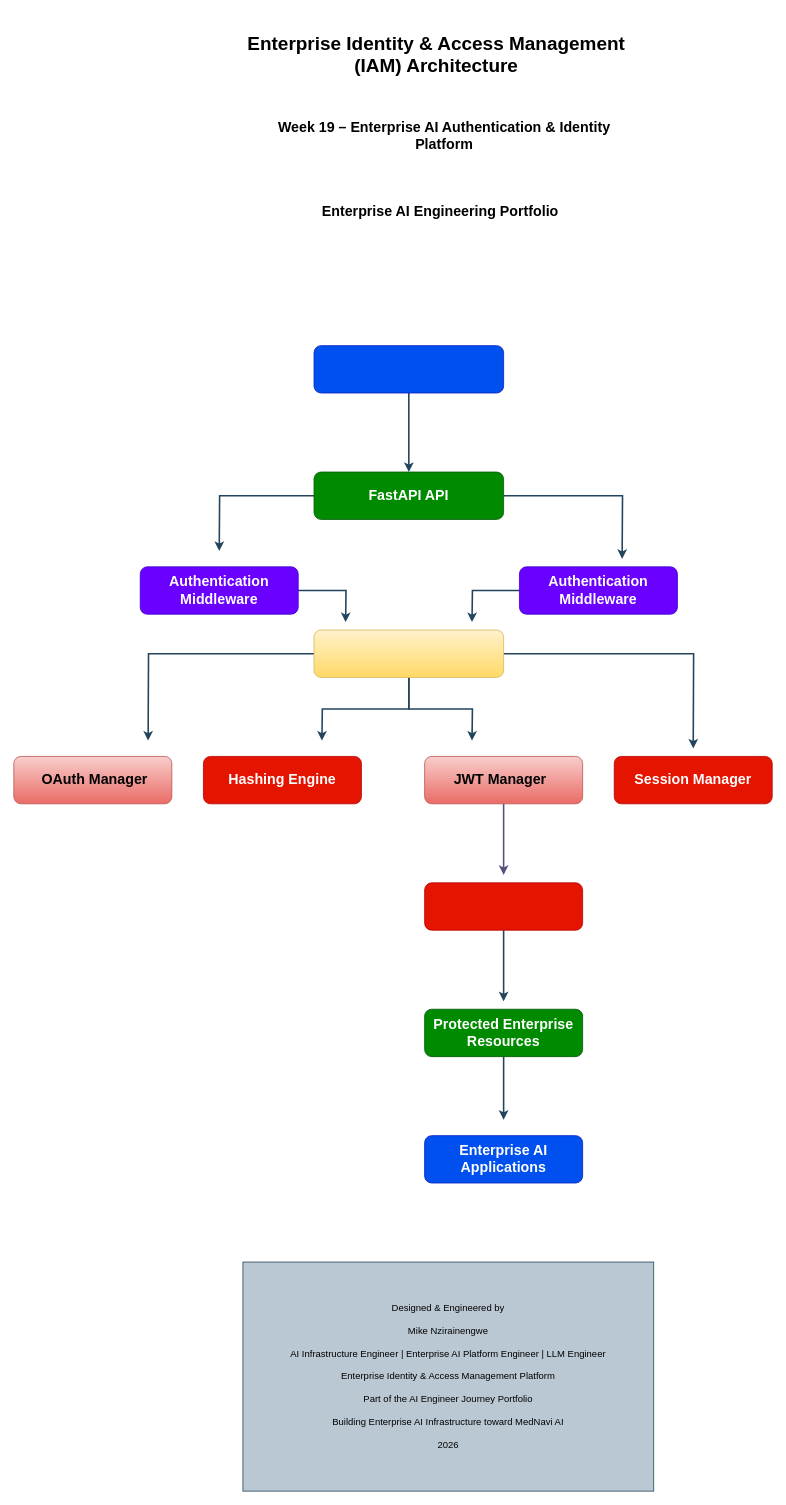
This 786x1505 diagram has some shape labels left out. The shapes that lost their labels are listed below. From the top down, each one's centre as x and y in pixels, then its label:
At point (408, 369): "Client".
At point (408, 653): "Enterprise Identity Server".
At point (503, 906): "Refresh Token Manager".
